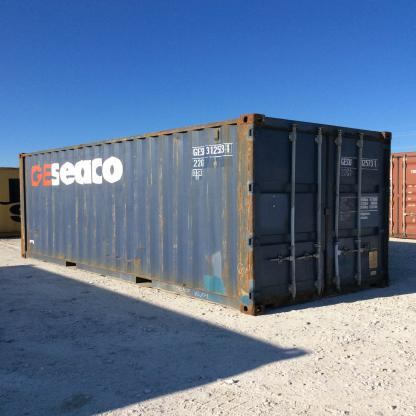Damage: (235, 124, 259, 301), (218, 126, 231, 296), (168, 185, 179, 285), (157, 156, 166, 277), (142, 195, 154, 276), (119, 177, 130, 249), (109, 187, 119, 246), (80, 180, 90, 236), (130, 168, 140, 223), (73, 188, 82, 246), (50, 190, 58, 249), (170, 134, 182, 171), (146, 139, 154, 189), (103, 252, 125, 270), (92, 192, 98, 256), (19, 229, 31, 260), (201, 242, 212, 272), (184, 239, 196, 264), (184, 210, 196, 230), (186, 174, 196, 196), (31, 222, 42, 241), (42, 190, 50, 216), (202, 182, 210, 207), (270, 192, 278, 214), (29, 185, 36, 210), (98, 236, 109, 249), (48, 156, 58, 168), (36, 158, 44, 169), (282, 219, 289, 226), (132, 152, 138, 160)
